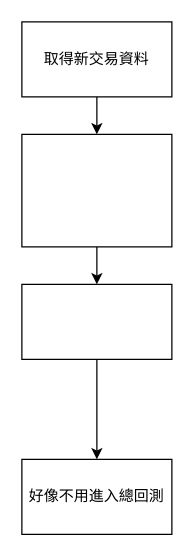
The diagram is 194 pixels wide and 556 high, and some of its shapes have lost their labels. Each missing label, with the centre of its shape:
"取得新的order排序" goes at point 96,321.
"將資料註冊給 online" goes at point 96,190.
